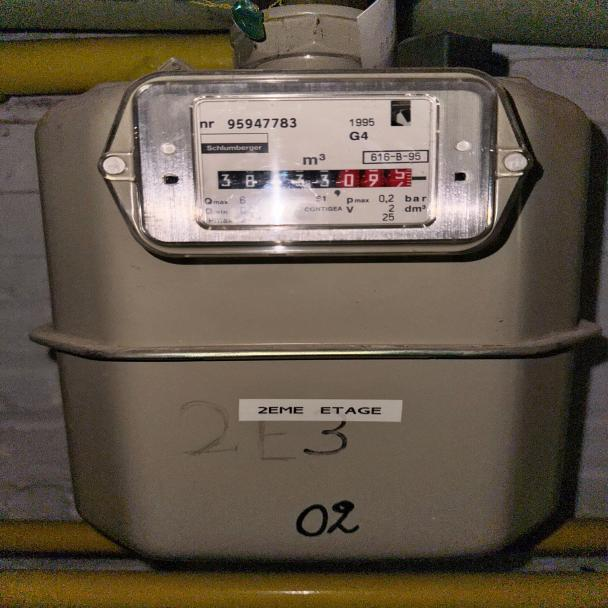0: (338, 170, 360, 188)
3: (313, 171, 334, 188), (219, 170, 235, 189), (290, 173, 310, 188)
4: (263, 171, 288, 189)
5: (390, 170, 410, 188)
8: (240, 171, 262, 189)
9: (363, 171, 386, 188)
cm: (340, 168, 412, 189)
counter: (216, 171, 336, 188)
